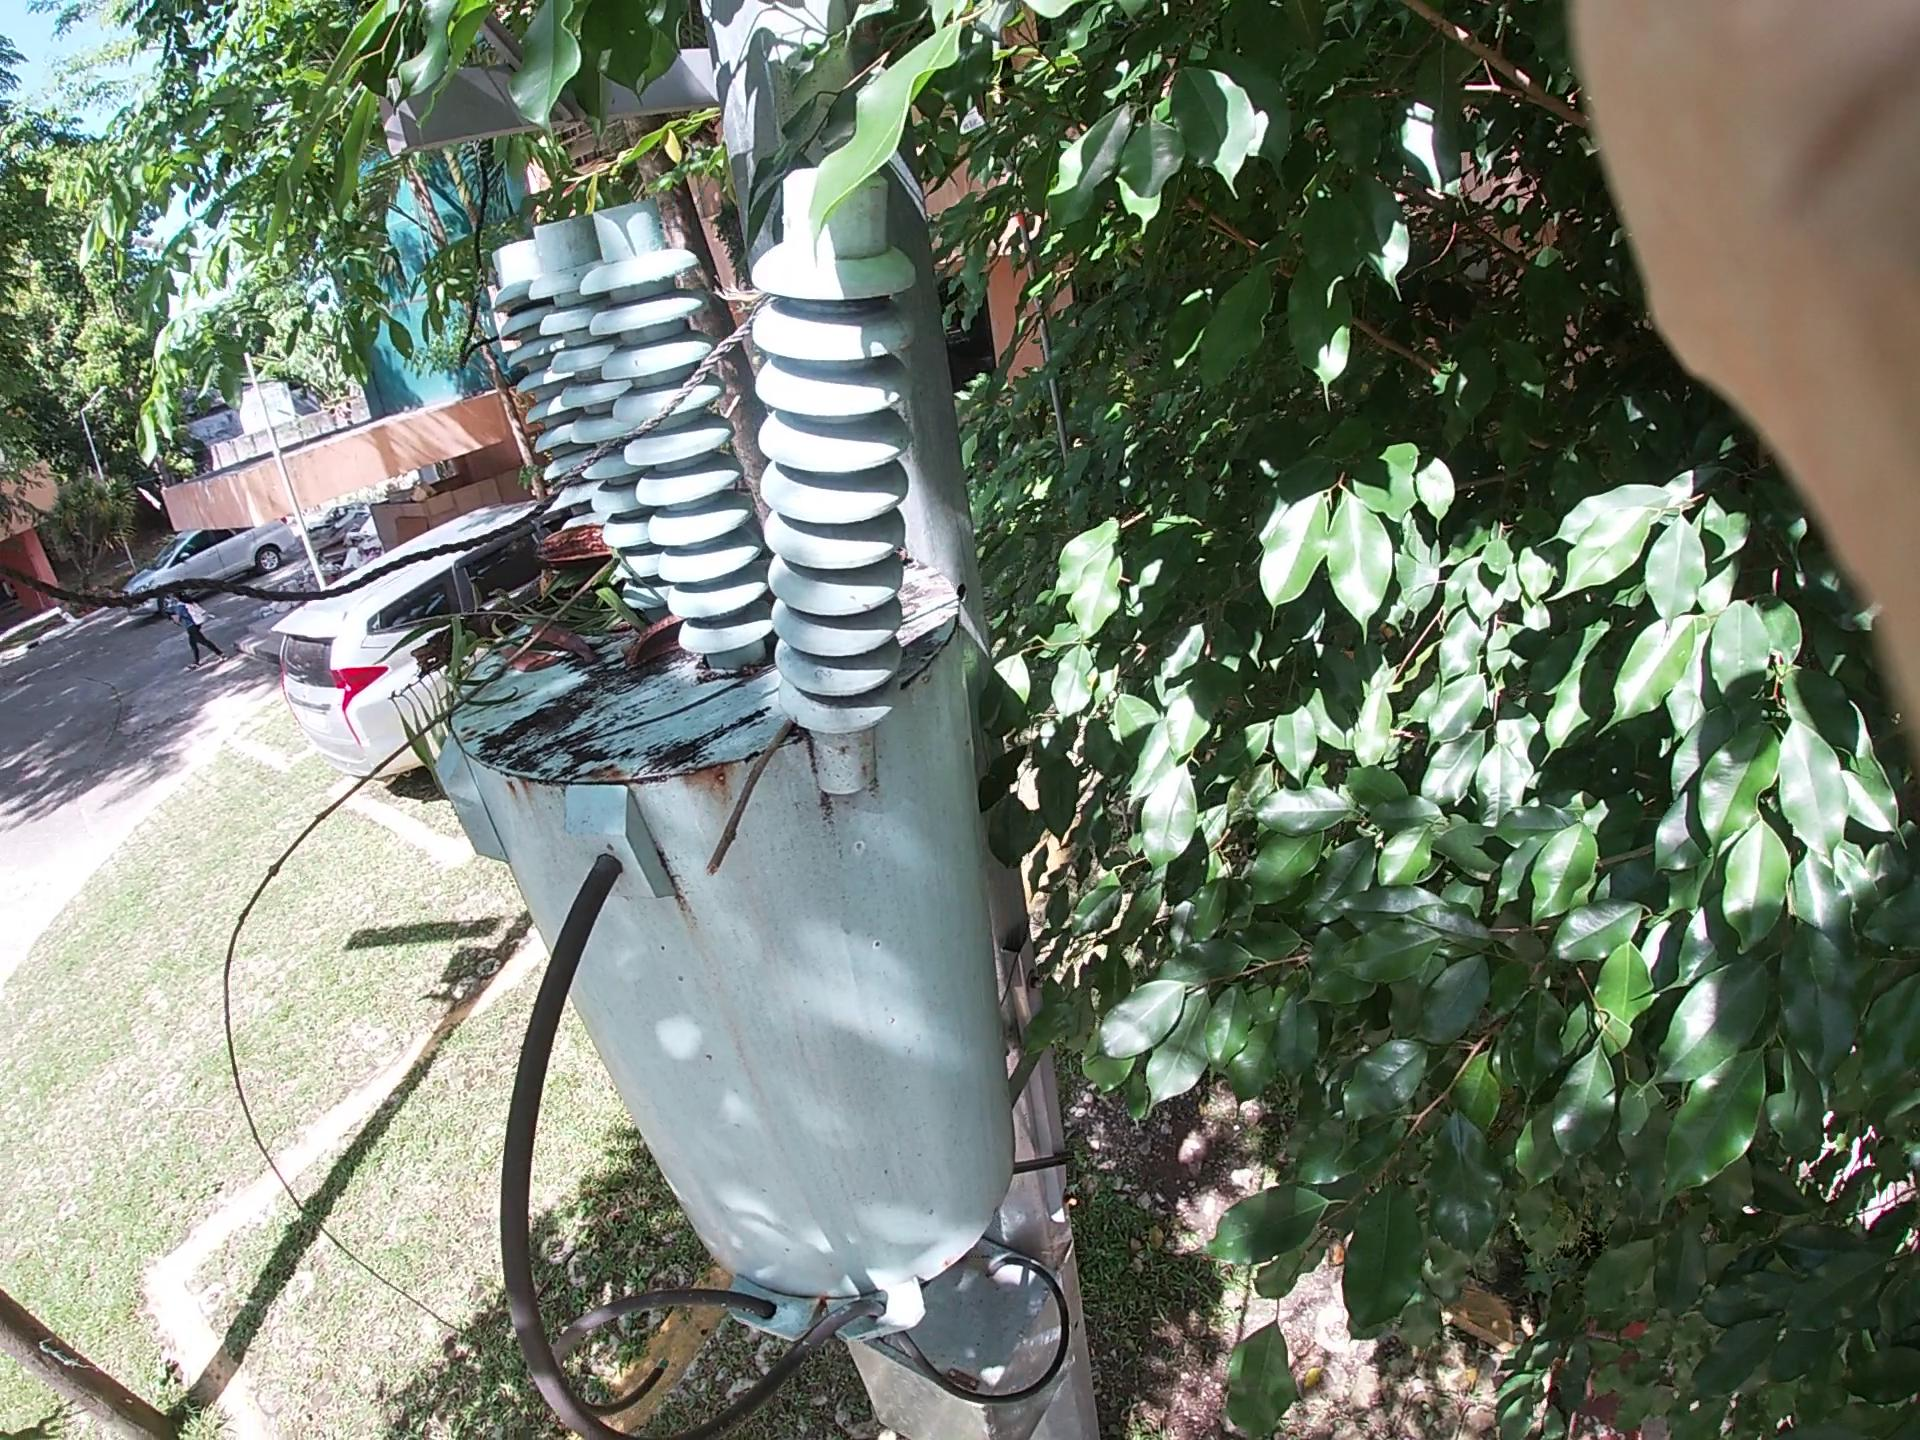branch with leaves: (395, 507, 655, 656)
leaf: (481, 613, 593, 684)
mahogany fruit: (537, 504, 632, 604), (624, 613, 717, 669)
tree branch: (206, 625, 541, 1072), (677, 703, 821, 948)
